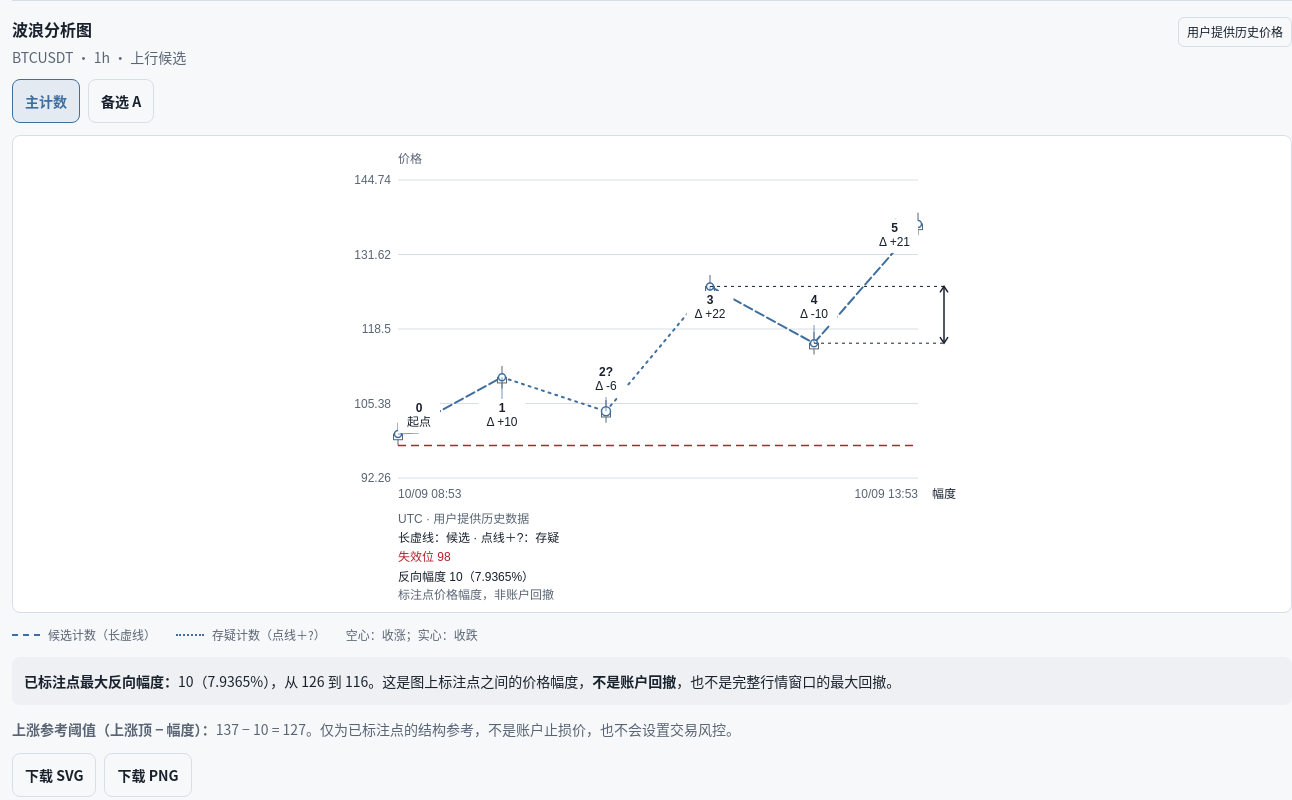
Test case: controlled wave analysis renderer › switches to a selected alternative without promoting it to confirmed evidence
Click the button "备选 A": coordinates (121, 101) [88,79,154,123]
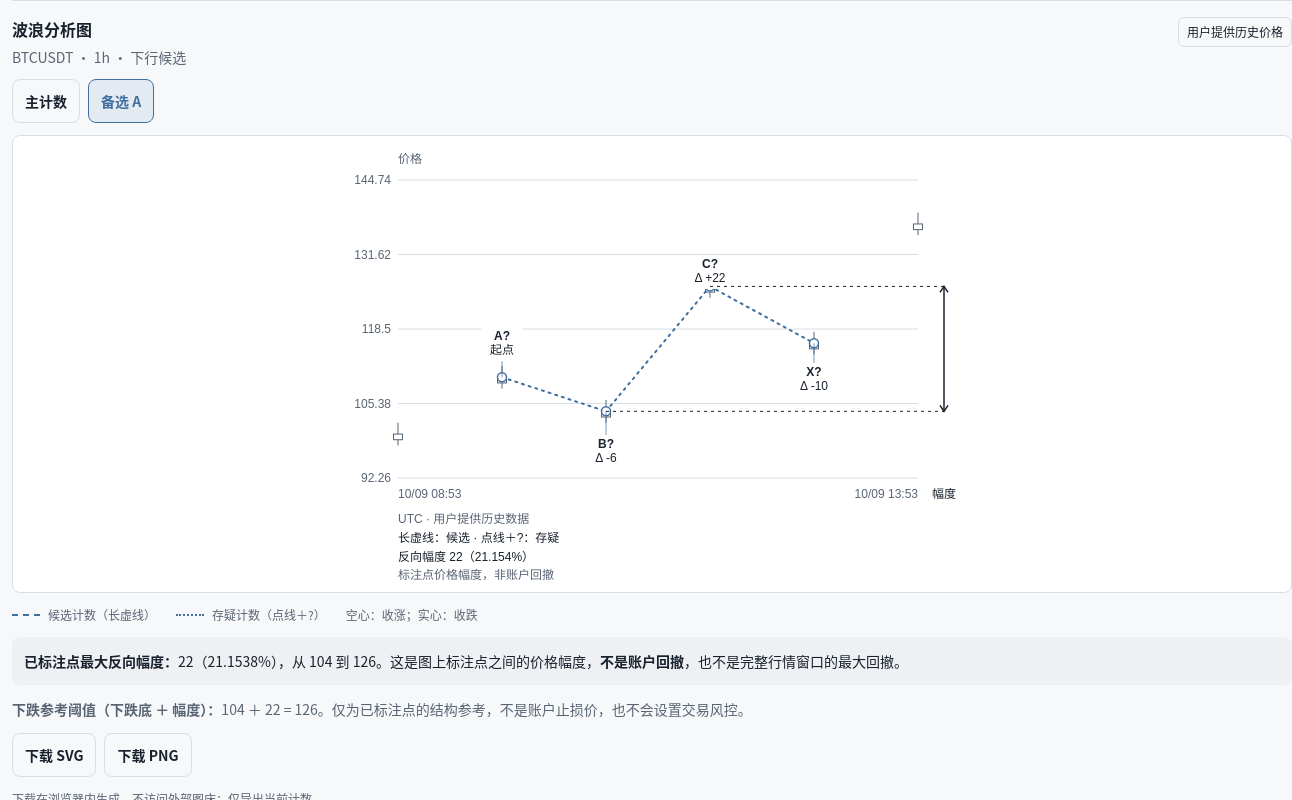
expect the picture named "BTCUSDT 波浪分析图：备选 A" is shown: met, box [21,144,1283,584]
expect the text "BTCUSDT · 1h · 下行候选" is shown: met, box [12,47,186,67]
expect the text "下跌参考阈值（下跌底 ＋ 幅度）：" is shown: met, box [12,699,221,719]
